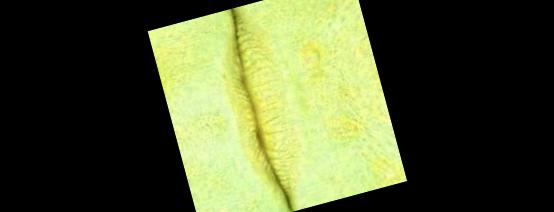Acne: (368, 154, 404, 188), (326, 118, 362, 147), (298, 40, 324, 70)
